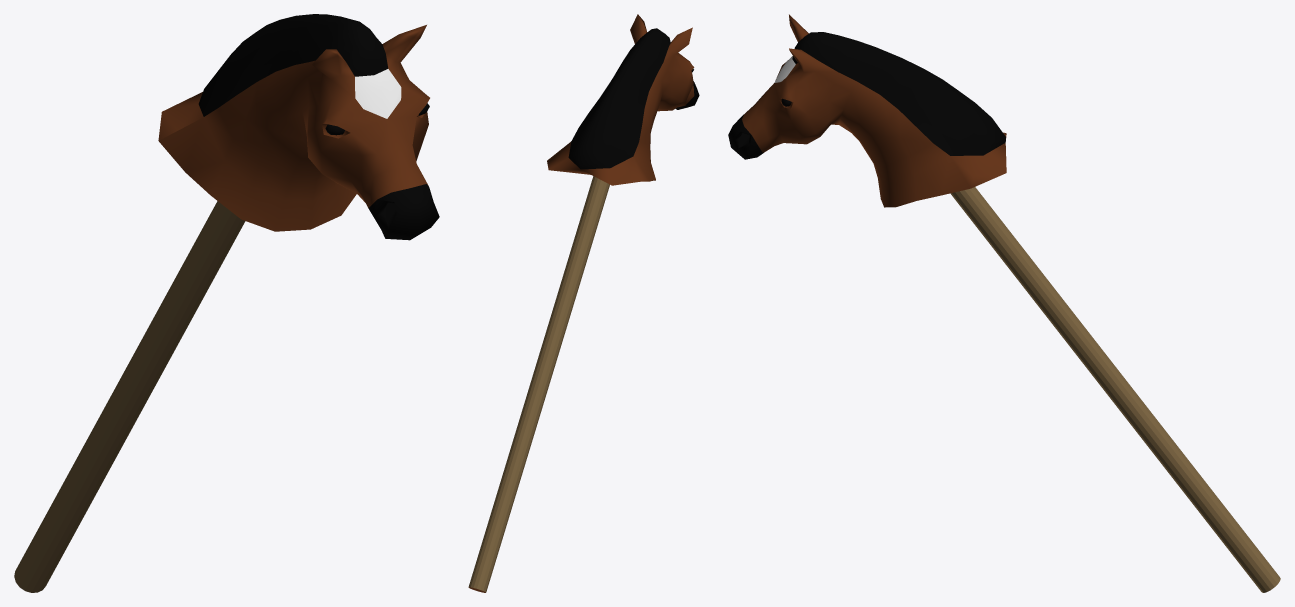
The model's file is HobbyHorse_001.fbx.
3 views of the same model, side by side, from view 1: azimuth 30°, elevation 25°; view 2: azimuth 150°, elevation 25°; view 3: azimuth 270°, elevation 25° (orthographic). The views are drawn at different scales.
Parts seen in each view (by area): view 1: Horse_001; view 2: Horse_001; view 3: Horse_001.
Part boxes in pixels (left/top/right/bottom): Horse_001: left=14, top=14, right=439, bottom=592; Horse_001: left=468, top=14, right=699, bottom=592; Horse_001: left=728, top=14, right=1280, bottom=592.
Size of the model in its own units: 58.72 by 259 by 231.
